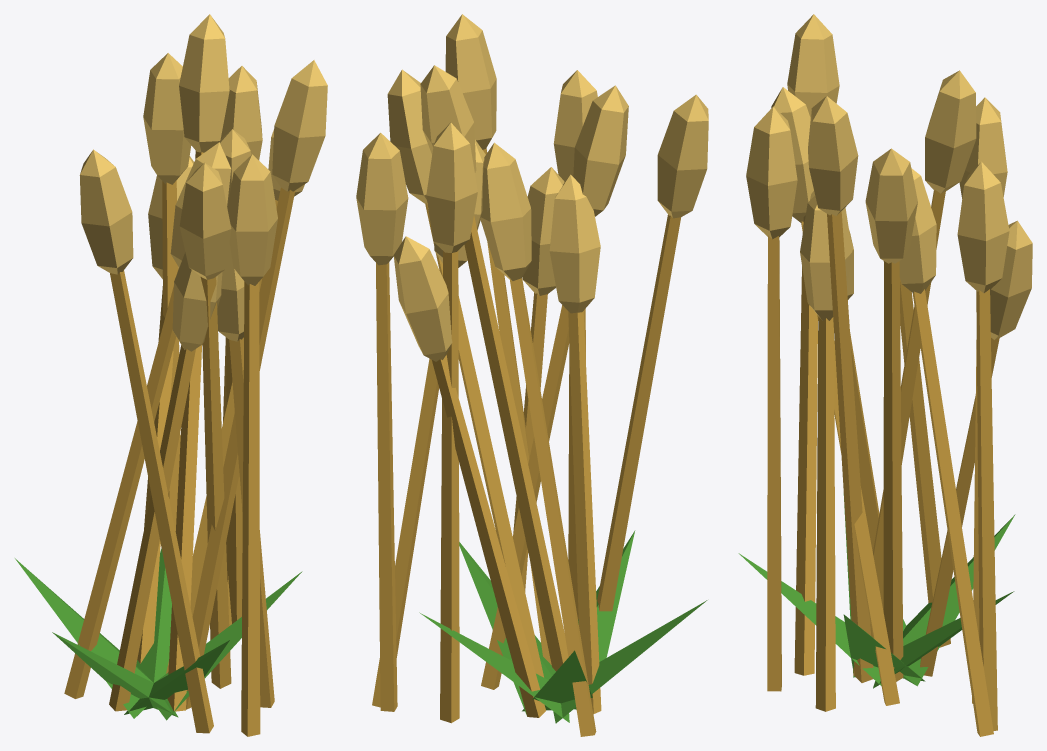
File: Bitki_Bugday.fbx
The picture shows the model from 3 angles, left to right: view 1: azimuth 30°, elevation 25°; view 2: azimuth 150°, elevation 25°; view 3: azimuth 270°, elevation 25°; orthographic projection.
Visible parts, largest first — view 1: Bitki_Bugday; view 2: Bitki_Bugday; view 3: Bitki_Bugday.
Part boxes in pixels (left/top/right/bottom): Bitki_Bugday: left=15, top=14, right=327, bottom=736; Bitki_Bugday: left=356, top=14, right=708, bottom=736; Bitki_Bugday: left=738, top=14, right=1032, bottom=736.
Bounding box in the file's own units: 26.93 × 56.97 × 23.54.
